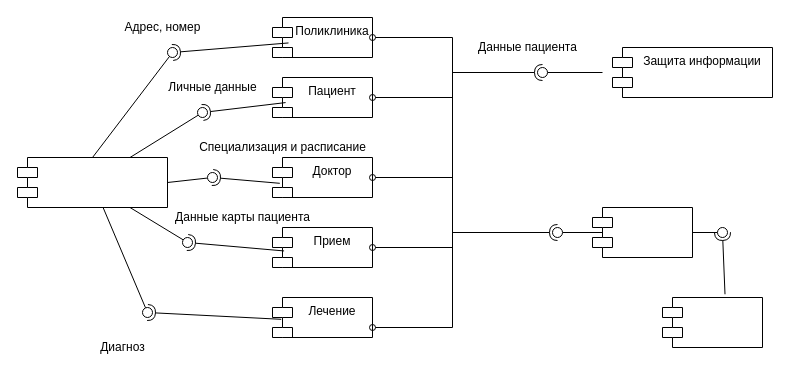
Image size: 790x375. Some labels were removed from this diagram. The shapes that lost their labels are listed below. From the top down, each one's centre as x and y in pixels, then its label:
point (92, 182): Система поликлиники
point (642, 232): База данных
point (712, 322): Диагнозы
